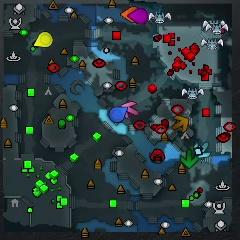p1: (108, 107, 129, 123)
p3: (127, 7, 149, 25)
p4: (33, 31, 53, 48)
p5: (120, 6, 138, 23)
x1: (120, 101, 139, 118)
x3: (194, 142, 211, 158)
x4: (180, 148, 199, 168)
x5: (171, 115, 189, 133)
